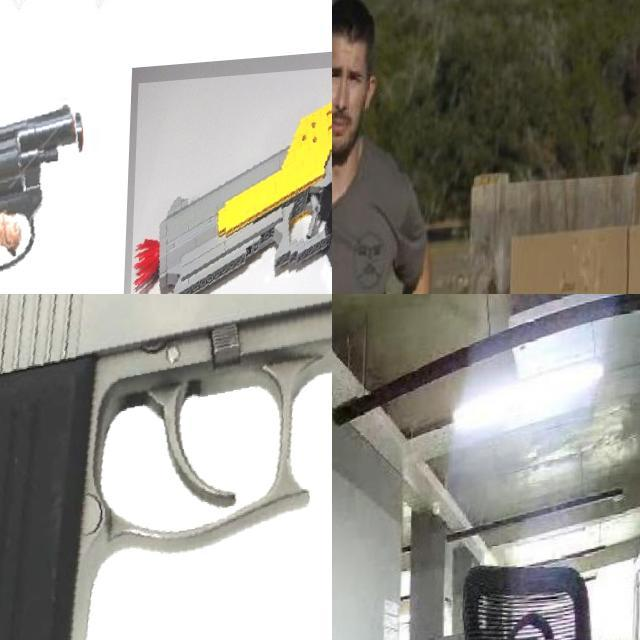gun-knife-thesis - v11 Yolov5 augmented: (0, 294, 332, 640), (133, 68, 332, 294), (123, 0, 332, 149), (0, 103, 94, 294), (0, 0, 95, 67), (0, 0, 57, 79)
